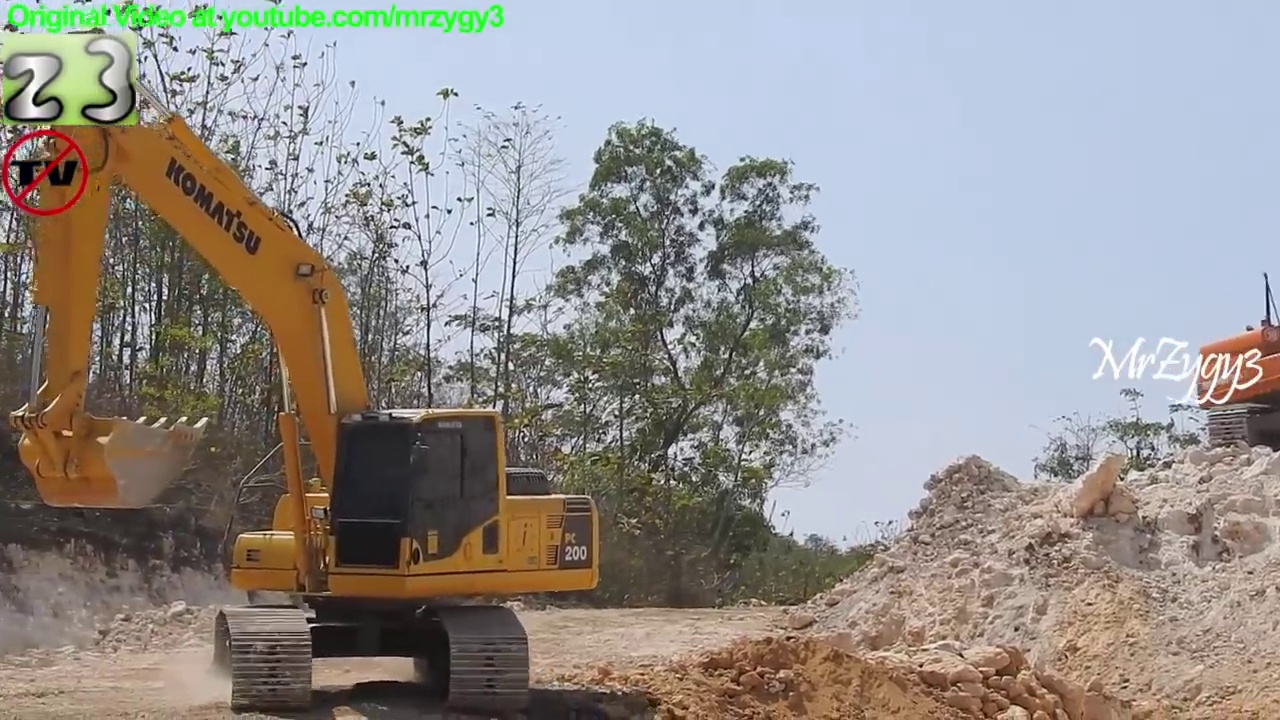excavator: (1, 14, 606, 717), (1186, 267, 1280, 452)
